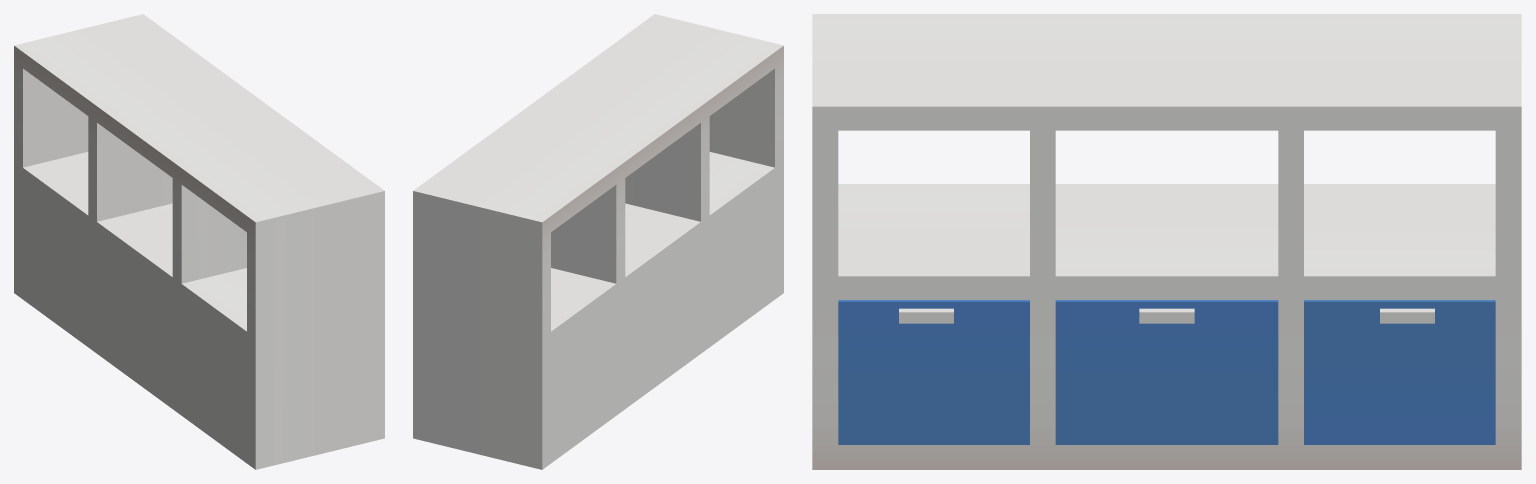
The model's file is Living_Room_cabinet.fbx.
3 renders of one model, left to right at view 1: azimuth 30°, elevation 25°; view 2: azimuth 150°, elevation 25°; view 3: azimuth 270°, elevation 25°, orthographic. The views are drawn at different scales.
Visible parts, largest first — view 1: Living_Room_cabinet; view 2: Living_Room_cabinet; view 3: Living_Room_cabinet.
Boxes of the visible parts, x1,y1,x2,y2 form: Living_Room_cabinet: (14, 14, 384, 469); Living_Room_cabinet: (413, 14, 783, 469); Living_Room_cabinet: (812, 14, 1521, 469).
Size of the model in its own units: 62.39 by 108 by 192.
